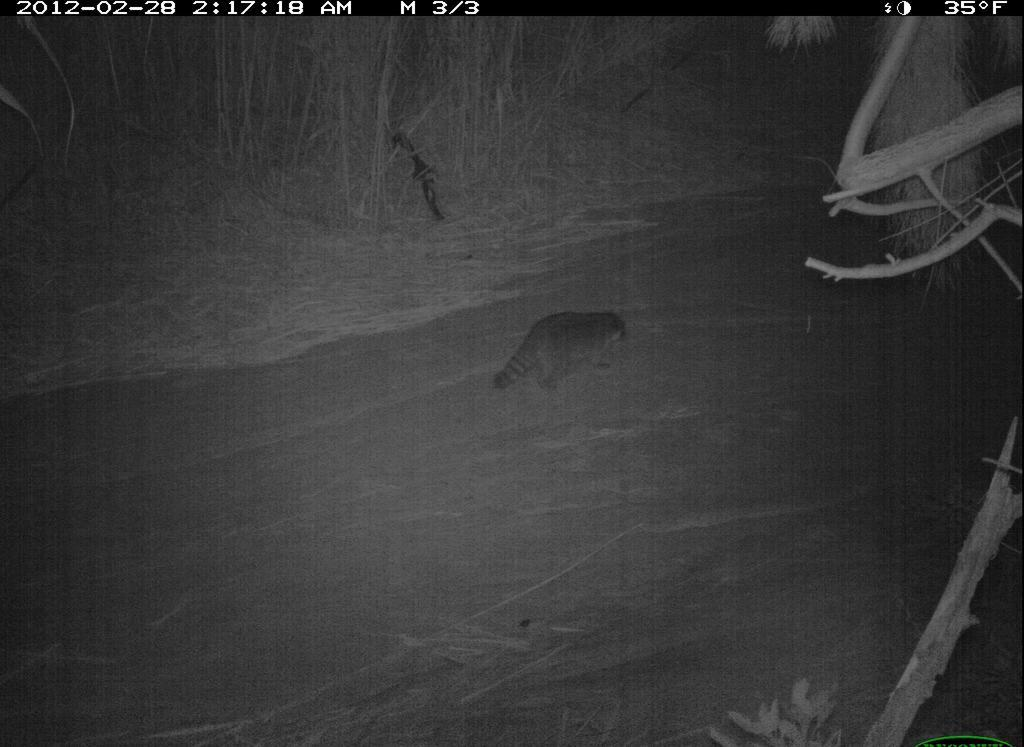raccoon: (470, 295, 651, 418)
